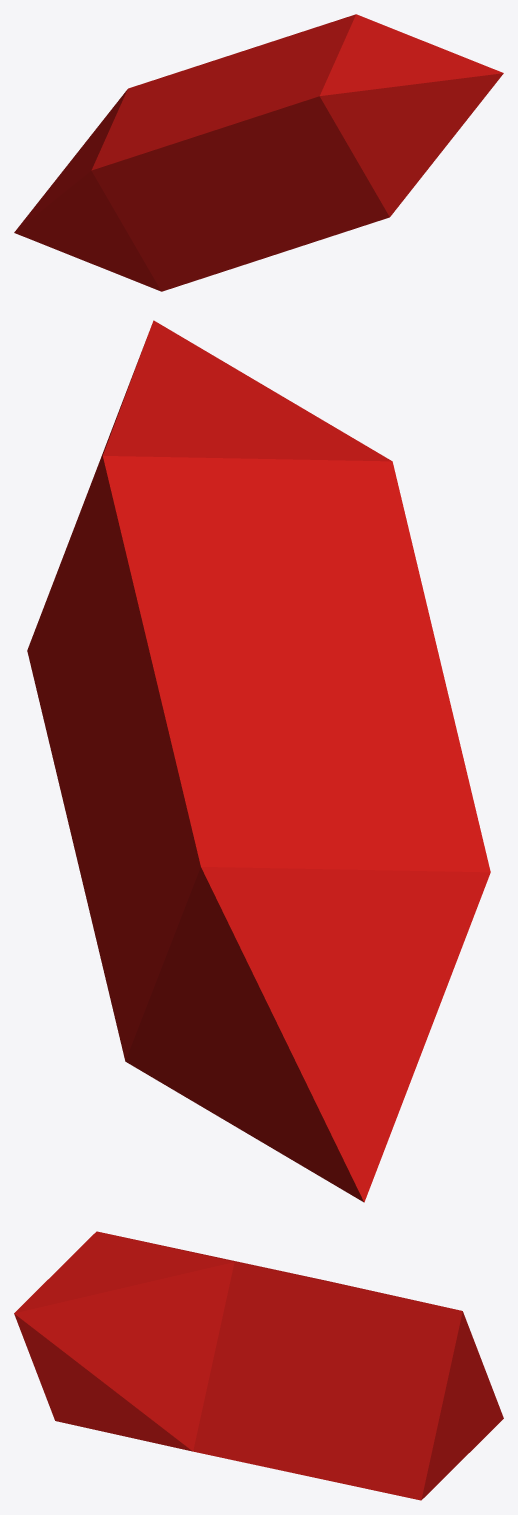
The model's file is right_arm_upper.obj.
The picture shows the model from 3 angles, top to bottom: view 1: azimuth 30°, elevation 25°; view 2: azimuth 150°, elevation 25°; view 3: azimuth 270°, elevation 25°; orthographic projection. The views are drawn at different scales.
Parts seen in each view (by area): view 1: right_arm_upper; view 2: right_arm_upper; view 3: right_arm_upper.
Part boxes in pixels (x1=…): right_arm_upper: x1=14, y1=14, x2=503, y2=291; right_arm_upper: x1=27, y1=320, x2=490, y2=1202; right_arm_upper: x1=14, y1=1231, x2=503, y2=1500.
Size of the model in its own units: 0.8474 by 0.6768 by 0.9481.
